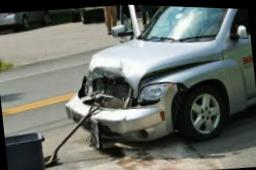Bonnet: (89, 46, 154, 93)
Bumper: (66, 76, 178, 141)
